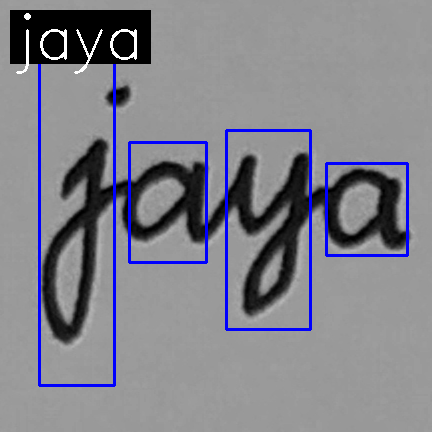a: (117, 155, 211, 248), (319, 164, 412, 257)
j: (38, 85, 132, 345)
y: (225, 147, 316, 320)
